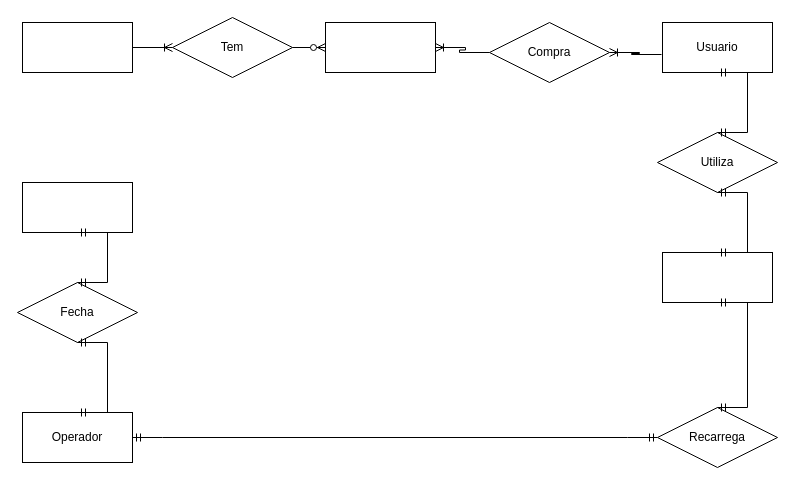
Image size: 795x485. Some labels were removed from this diagram. Here are the shapes that lost their labels. From the top down, the centre of each, then its label:
At point 77,47: "Barraca".
At point 380,47: "Produtos".
At point 77,207: "Caixa".
At point 717,277: "Cartão".
